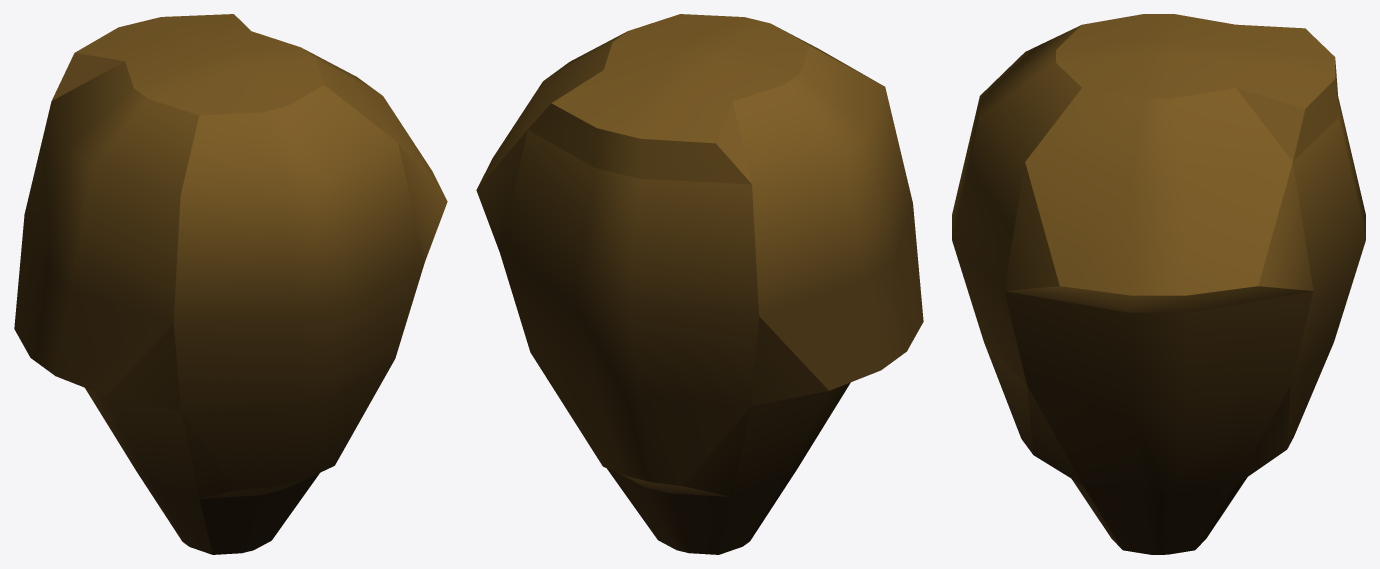
Rendered from CoreSeed.fbx.
The picture shows the model from 3 angles, left to right: view 1: azimuth 30°, elevation 25°; view 2: azimuth 150°, elevation 25°; view 3: azimuth 270°, elevation 25°; orthographic projection. The views are drawn at different scales.
Visible parts, largest first — view 1: CoreSeed; view 2: CoreSeed; view 3: CoreSeed.
Part boxes in pixels (x1,y1,x2,y2): CoreSeed: [14, 14, 447, 554]; CoreSeed: [476, 14, 923, 554]; CoreSeed: [952, 14, 1365, 554].
Bounding box in the file's own units: 44.3 × 54.52 × 40.67.
